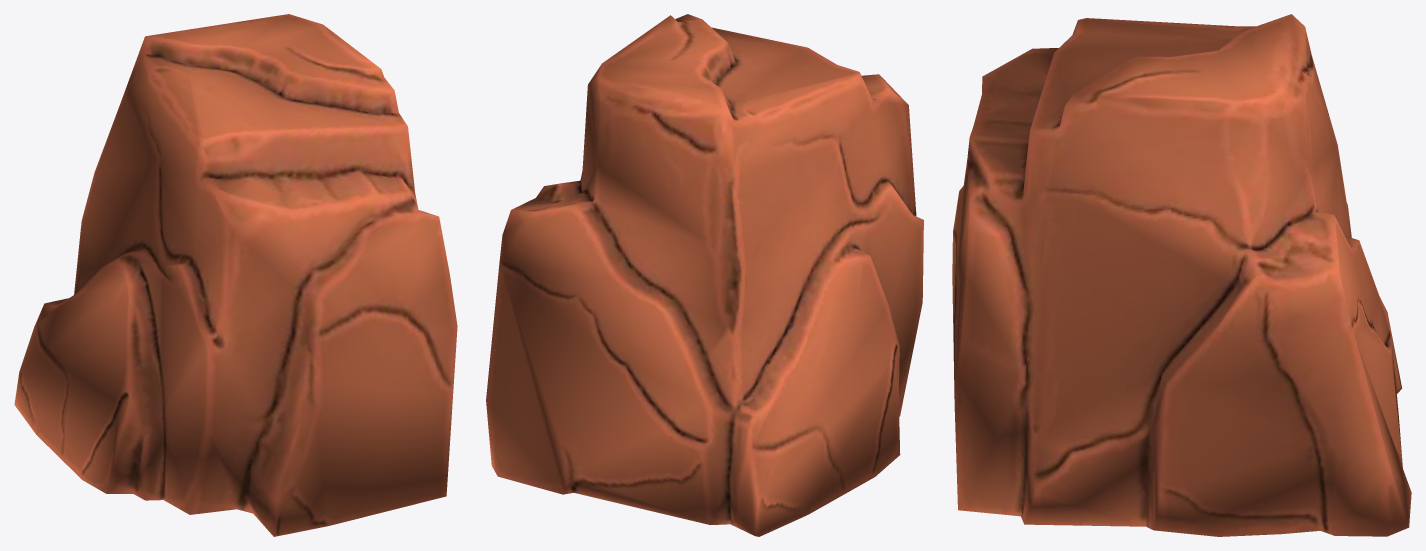
File: gorge-cliff-2.glb
3 views of the same model, side by side, from view 1: azimuth 30°, elevation 25°; view 2: azimuth 150°, elevation 25°; view 3: azimuth 270°, elevation 25° (orthographic). The views are drawn at different scales.
Visible parts, largest first — view 1: GorgeCliff2; view 2: GorgeCliff2; view 3: GorgeCliff2.
Part boxes in pixels (left/top/right/bottom): GorgeCliff2: left=14, top=14, right=457, bottom=536; GorgeCliff2: left=486, top=14, right=923, bottom=536; GorgeCliff2: left=952, top=14, right=1411, bottom=536.
Bounding box in the file's own units: 1.72 × 2.01 × 2.
1 material, 1 textured.
